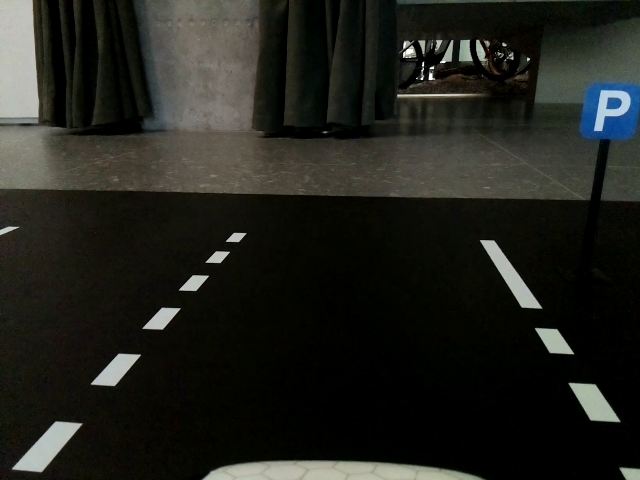park: (583, 85, 638, 139)
